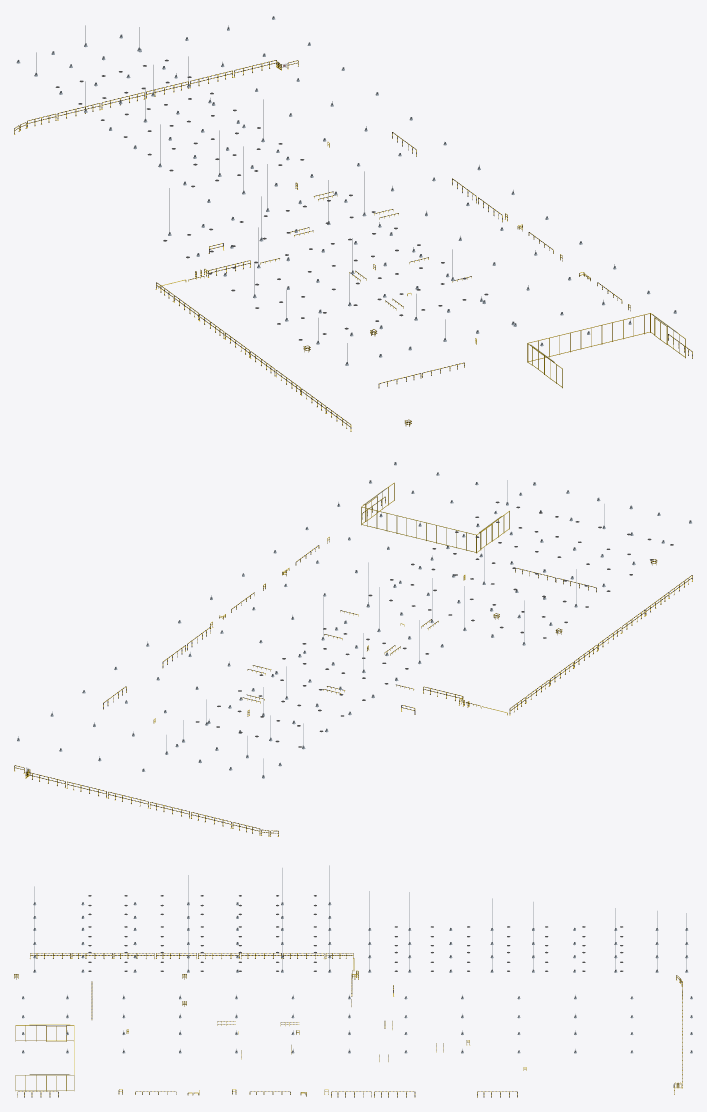
File: LJ_HuLan.FBX
The picture shows the model from 3 angles, top to bottom: view 1: azimuth 30°, elevation 25°; view 2: azimuth 150°, elevation 25°; view 3: azimuth 270°, elevation 25°; orthographic projection. The views are drawn at different scales.
Parts seen in each view (by area): view 1: YF_Model_LJ_Deng, YF_Model_LJ_Hulan, YF_Model_LJ_Fanghulan; view 2: YF_Model_LJ_Deng, YF_Model_LJ_Hulan, YF_Model_LJ_Fanghulan; view 3: YF_Model_LJ_Deng, YF_Model_LJ_Hulan, YF_Model_LJ_Fanghulan.
Boxes of the visible parts, <box> form: YF_Model_LJ_Deng: <box>16,16,676,365</box>; YF_Model_LJ_Hulan: <box>14,60,692,431</box>; YF_Model_LJ_Fanghulan: <box>527,313,685,388</box>; YF_Model_LJ_Deng: <box>17,462,691,778</box>; YF_Model_LJ_Hulan: <box>14,496,692,836</box>; YF_Model_LJ_Fanghulan: <box>361,482,509,553</box>; YF_Model_LJ_Deng: <box>22,865,692,1053</box>; YF_Model_LJ_Hulan: <box>14,953,682,1097</box>; YF_Model_LJ_Fanghulan: <box>15,1024,74,1090</box>.
Size of the model in its own units: 4802 by 1507 by 9581.
